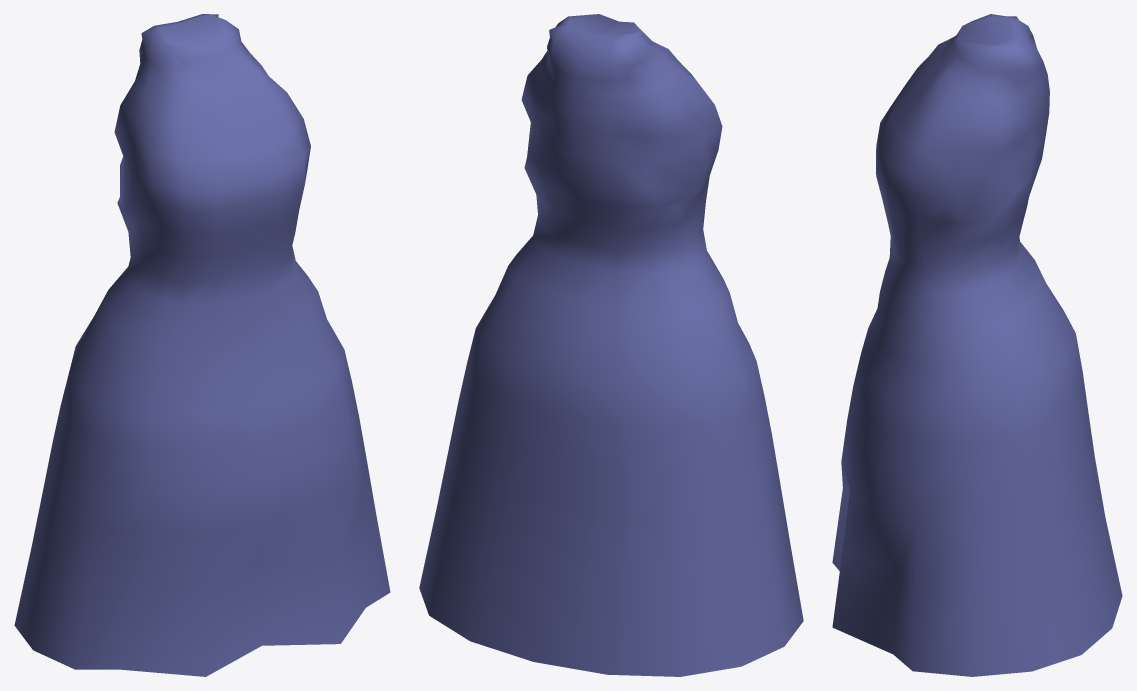
The model's file is dress_Standingfbx.fbx.
3 views of the same model, side by side, from view 1: azimuth 30°, elevation 25°; view 2: azimuth 150°, elevation 25°; view 3: azimuth 270°, elevation 25° (orthographic). The views are drawn at different scales.
Parts seen in each view (by area): view 1: Dress; view 2: Dress; view 3: Dress.
Boxes of the visible parts, bbox=[...] form: Dress: bbox=[14, 14, 390, 676]; Dress: bbox=[419, 14, 803, 676]; Dress: bbox=[832, 14, 1122, 676].
Size of the model in its own units: 61.23 by 99.4 by 46.12.
